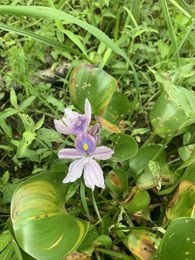water_hyacinth: (11, 55, 195, 260)
